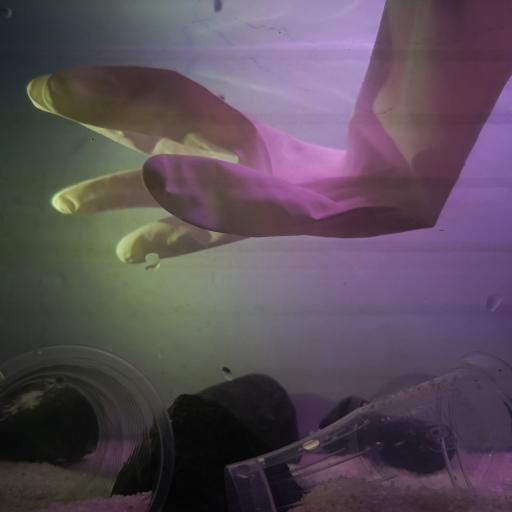glove: (22, 0, 510, 268)
plastic_cup: (226, 348, 512, 512), (1, 339, 179, 512)
